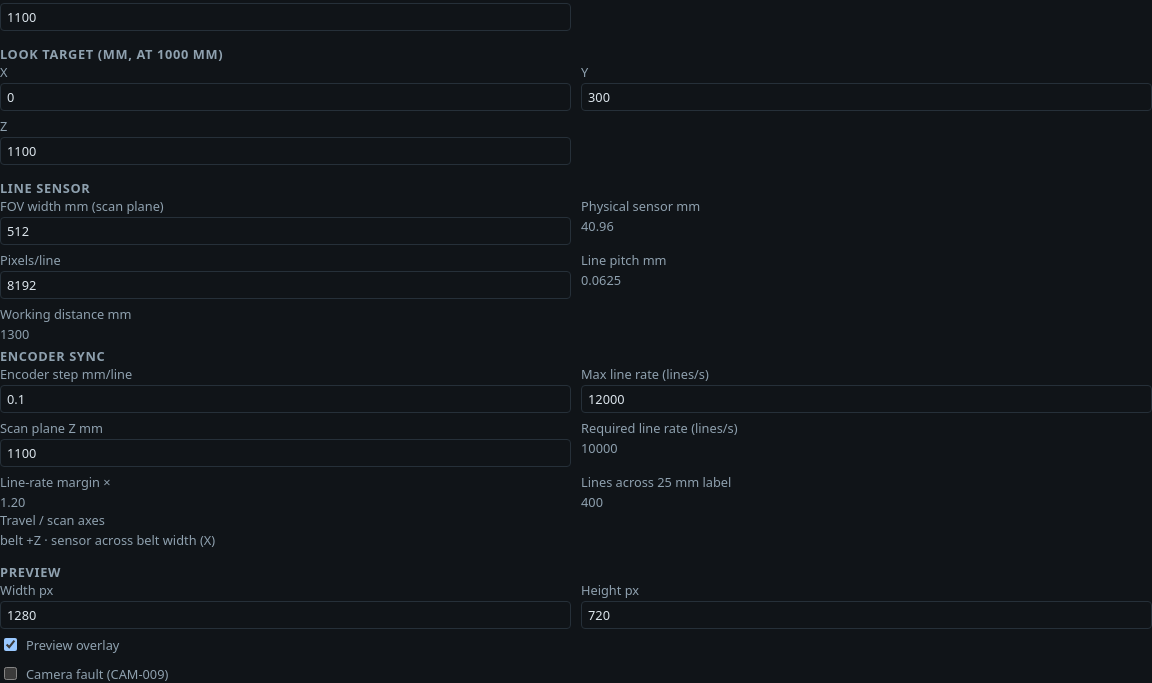
Test: LabControls › an invalid line value never commits and shows the validation error (t10)
(page scrolled)
Replace the text in the number field labelled "Encoder step mm/line" with "0" at (286, 399), box [0, 385, 571, 413]
(page scrolled)
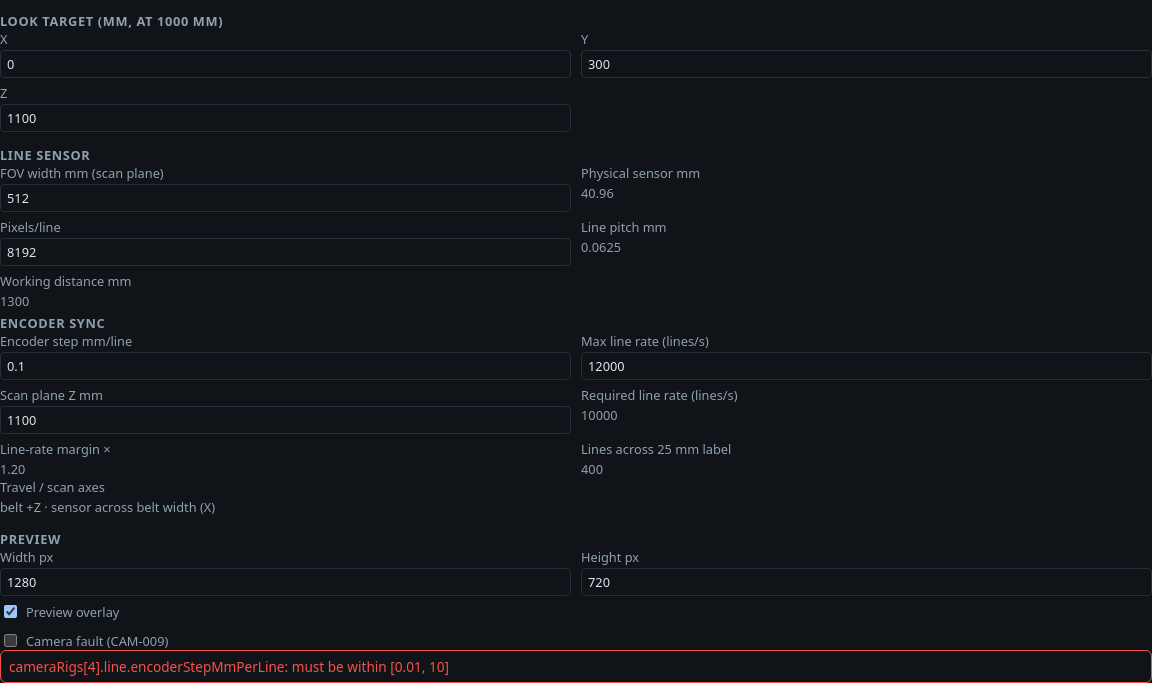
Now the text with test id "lab-edit-error" shows "line.encoderStepMmPerLine", box [9, 657, 449, 676]
